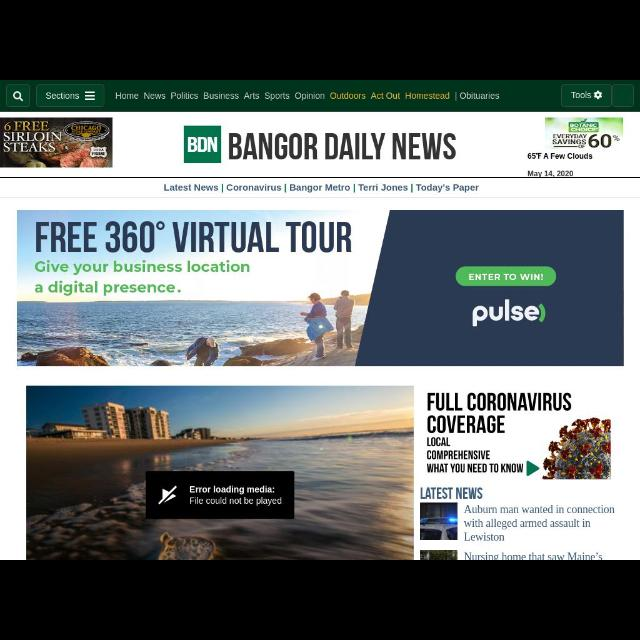button: (7, 85, 30, 107)
icon: (13, 92, 23, 102), (85, 92, 95, 101), (594, 92, 602, 98)
iframe: (16, 211, 624, 365)
image: (26, 386, 414, 558), (426, 391, 610, 477), (1, 118, 111, 166), (544, 118, 624, 152), (419, 502, 456, 540), (184, 126, 222, 162), (422, 551, 456, 559)
multitab: (1, 178, 639, 196)
text: (229, 134, 455, 158), (464, 505, 616, 539), (464, 552, 604, 558), (416, 182, 479, 194), (421, 488, 484, 500), (164, 182, 218, 192), (227, 183, 281, 193), (528, 152, 592, 160), (290, 184, 350, 192), (358, 184, 408, 192), (407, 92, 449, 101), (205, 91, 239, 101), (45, 92, 79, 102), (460, 92, 498, 100), (372, 91, 402, 101), (331, 92, 365, 100), (528, 171, 572, 177), (296, 92, 324, 101), (114, 91, 138, 101), (145, 92, 167, 102), (172, 92, 198, 100), (571, 92, 591, 100), (266, 94, 288, 100), (243, 93, 260, 99)
textbutton: (36, 85, 106, 105), (560, 84, 612, 106)
toolbar: (1, 82, 639, 110)
